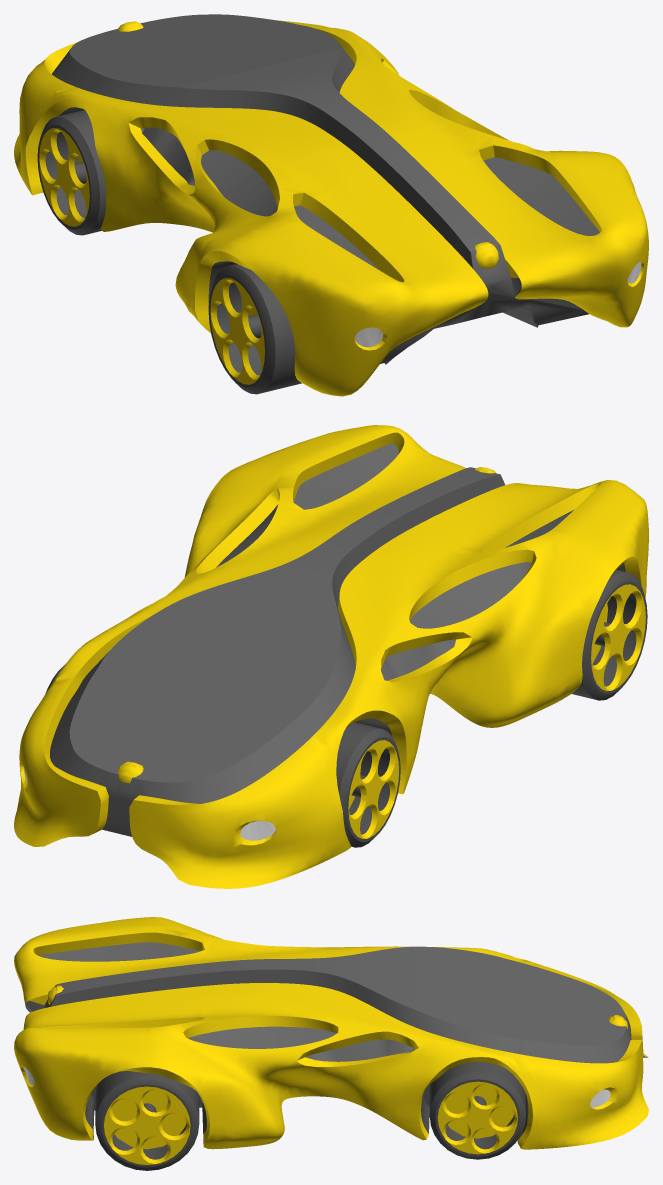
Rendered from Heuer_FS3_coloured.gltf.
The picture shows the model from 3 angles, top to bottom: view 1: azimuth 30°, elevation 25°; view 2: azimuth 150°, elevation 25°; view 3: azimuth 270°, elevation 25°; orthographic projection. The views are drawn at different scales.
Visible parts, largest first — view 1: one-Mat (×5), one-Mat.1 (×4), one-Mat.6 (×2), one-Mat.4; view 2: one-Mat (×5), one-Mat.1 (×4), one-Mat.6 (×2); view 3: one-Mat (×5), one-Mat.1 (×4), one-Mat.6 (×3).
Boxes of the visible parts, x1,y1,x2,y2 form: one-Mat (×5): (14, 20, 648, 396); one-Mat.1 (×4): (52, 14, 599, 364); one-Mat.6 (×2): (37, 110, 301, 394); one-Mat.4: (355, 262, 641, 347); one-Mat (×5): (14, 425, 648, 888); one-Mat.1 (×4): (50, 443, 573, 836); one-Mat.6 (×2): (45, 570, 647, 847); one-Mat (×5): (14, 917, 648, 1164); one-Mat.1 (×4): (25, 942, 647, 1139); one-Mat.6 (×3): (85, 1061, 525, 1170).
Bounding box in the file's own units: 290 × 122 × 511.
